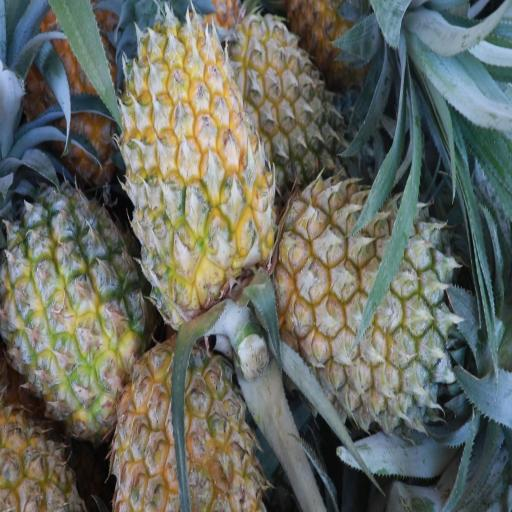------------------------------: (114, 339, 252, 512)
Pineapple - v8 v1: (124, 14, 272, 311), (2, 183, 140, 427)
